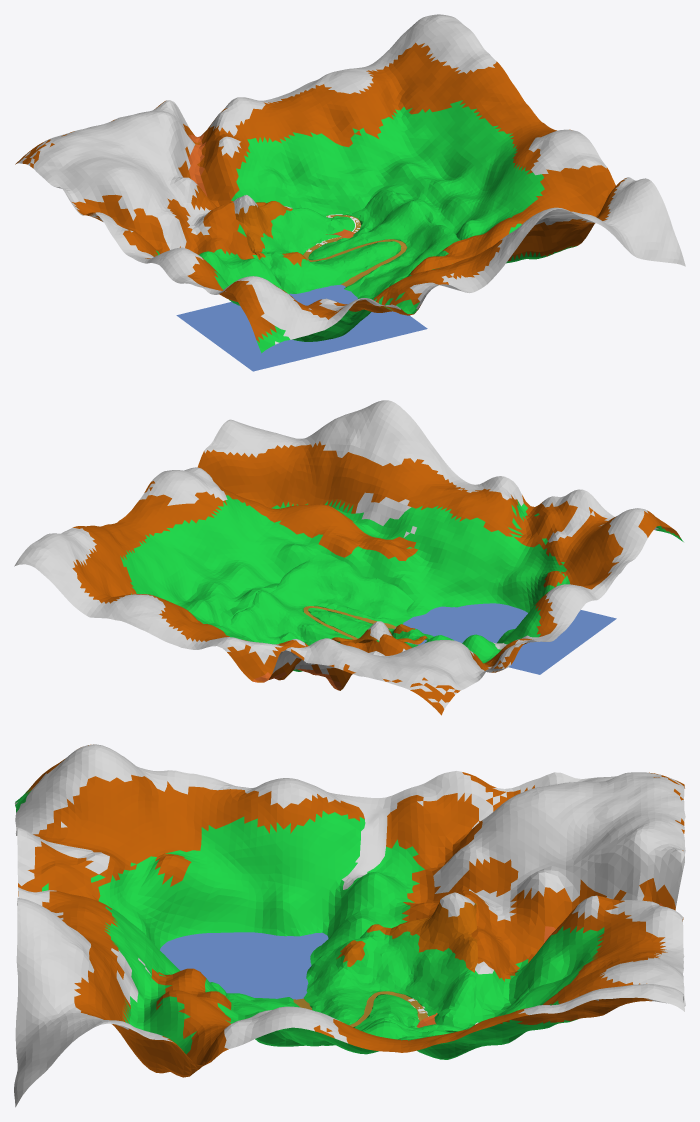
The model's file is Map_Level_1.fbx.
3 renders of one model, top to bottom at view 1: azimuth 30°, elevation 25°; view 2: azimuth 150°, elevation 25°; view 3: azimuth 270°, elevation 25°, orthographic. The views are drawn at different scales.
Parts seen in each view (by area): view 1: Plane.001, terrain, water, Plane.004; view 2: Plane.001, terrain, water; view 3: Plane.001, terrain, water, Plane.004.
Boxes of the visible parts, <box> form: Plane.001: <box>15,14,685,353</box>; terrain: <box>232,189,460,297</box>; water: <box>176,284,427,371</box>; Plane.004: <box>303,215,407,286</box>; Plane.001: <box>14,400,683,715</box>; terrain: <box>230,553,433,645</box>; water: <box>395,603,616,674</box>; Plane.001: <box>14,744,685,1107</box>; terrain: <box>226,892,477,1032</box>; water: <box>160,932,328,999</box>; Plane.004: <box>293,991,427,1026</box>.
Size of the model in its own units: 19405 by 5912 by 19342.
